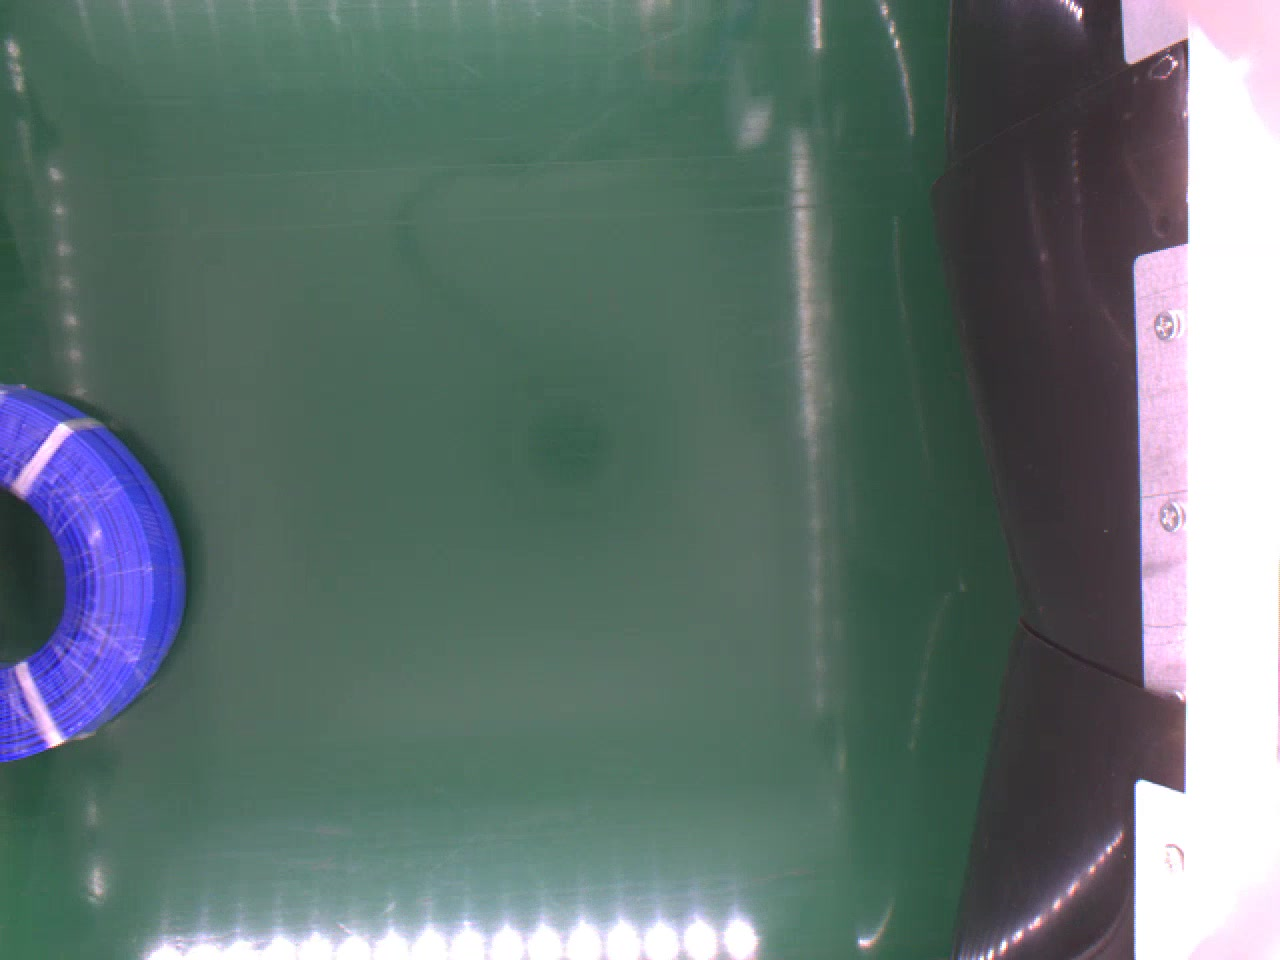blue: (0, 383, 193, 759)
